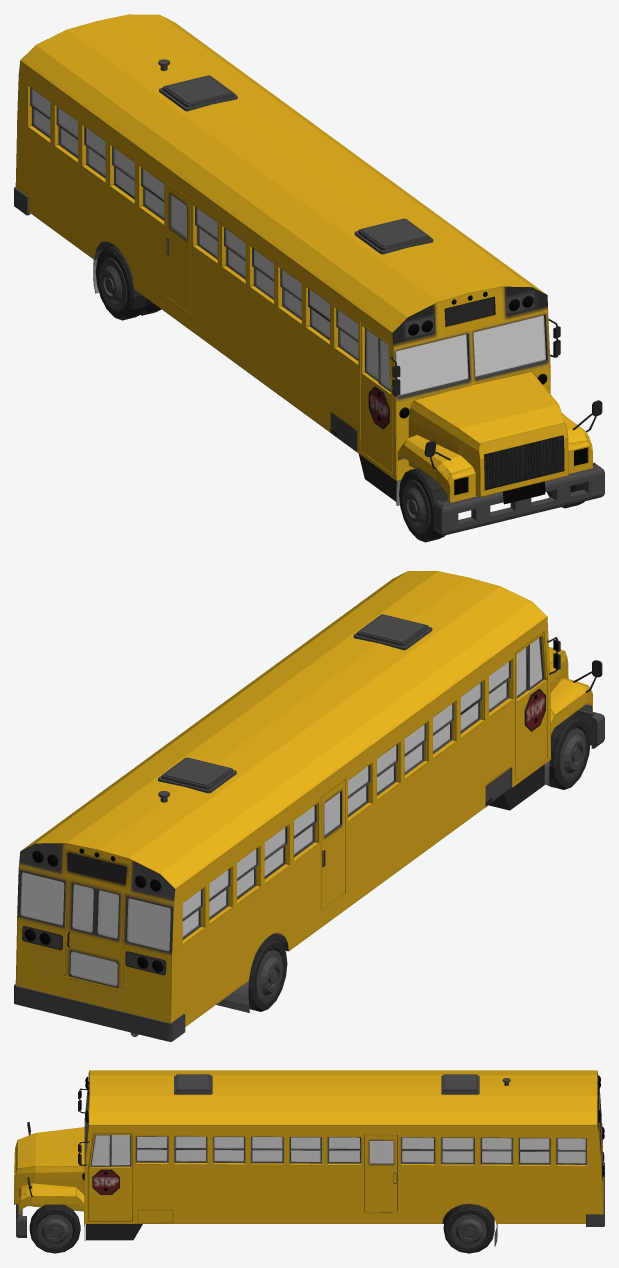
File: bus bay.fbx
The picture shows the model from 3 angles, top to bottom: view 1: azimuth 30°, elevation 25°; view 2: azimuth 150°, elevation 25°; view 3: azimuth 270°, elevation 25°; orthographic projection. The views are drawn at different scales.
Parts seen in each view (by area): view 1: car body; view 2: car body; view 3: car body.
Boxes of the visible parts, x1,y1,x2,y2 form: car body: [14, 14, 604, 542]; car body: [14, 571, 604, 1041]; car body: [14, 1070, 604, 1253].
Size of the model in its own units: 89.29 by 105 by 379.
1 material, 1 textured.
